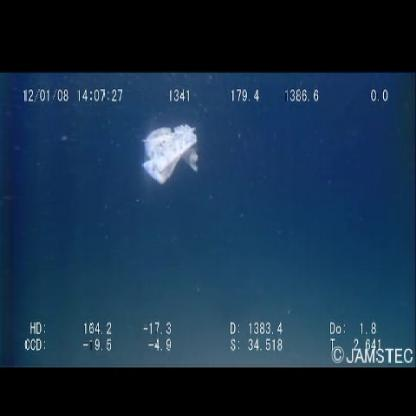Rác: (139, 121, 202, 188)
